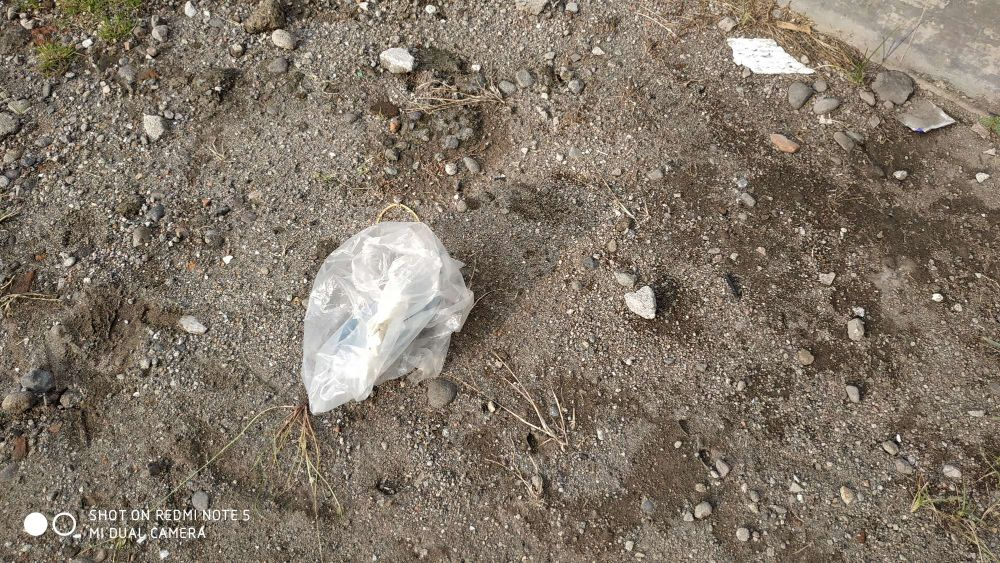plastik: (284, 207, 468, 410)
